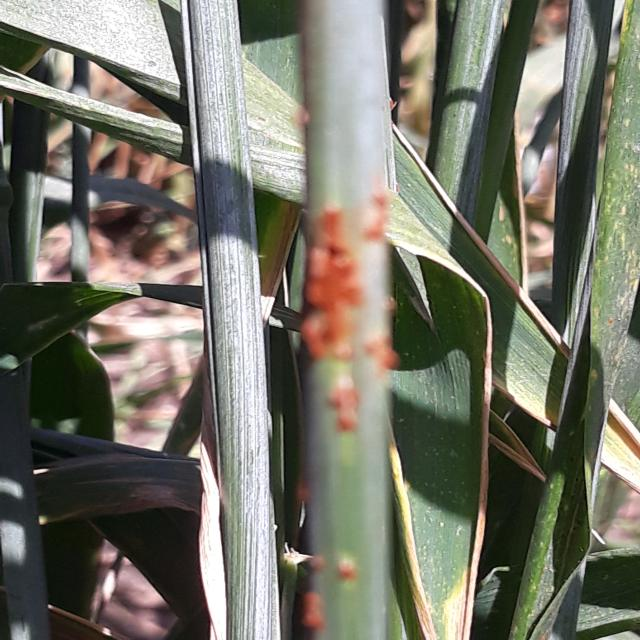black_stem_rust: (258, 0, 461, 640)
